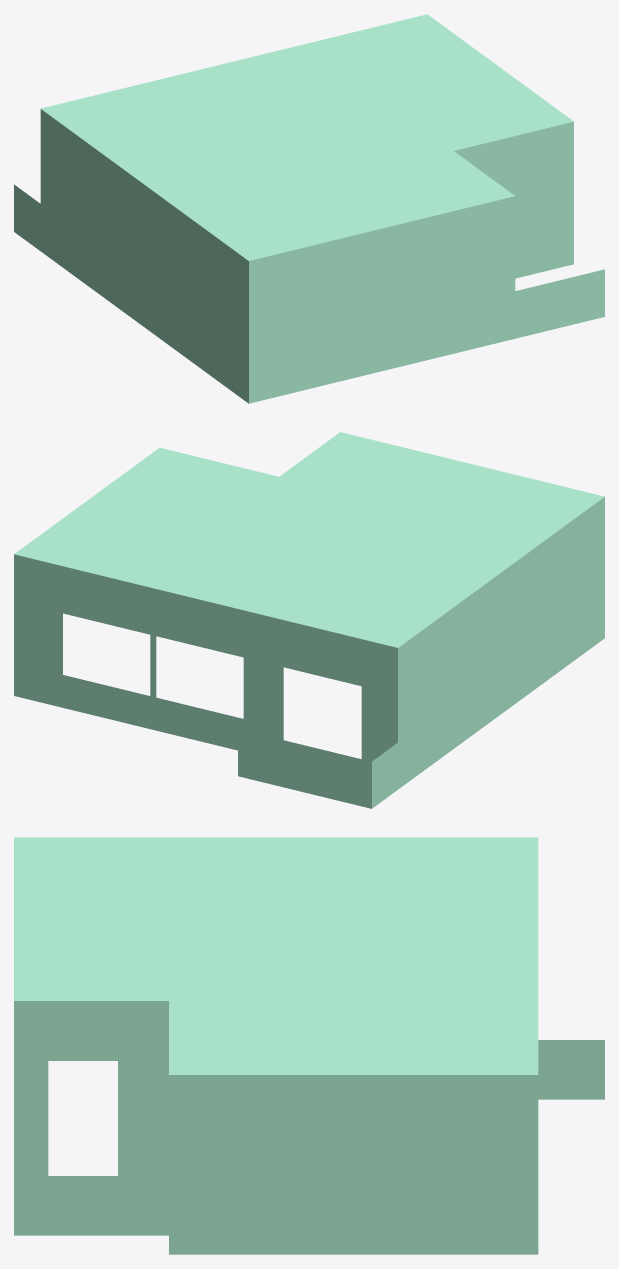
File: modelTest_250711.gltf
3 renders of one model, top to bottom at view 1: azimuth 30°, elevation 25°; view 2: azimuth 150°, elevation 25°; view 3: azimuth 270°, elevation 25°, orthographic. The views are drawn at different scales.
Bounding box in the file's own units: 9.65 × 3.4 × 10.15.
